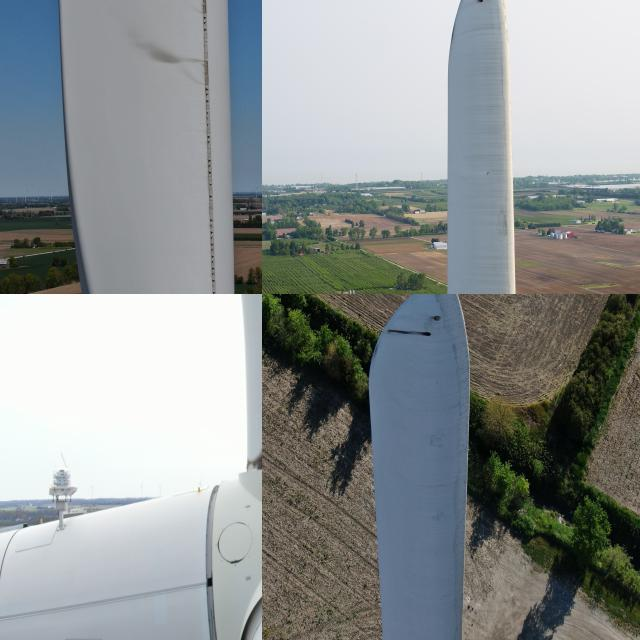damage: (382, 328, 432, 342), (250, 433, 261, 484), (200, 60, 212, 86), (199, 38, 211, 61), (207, 203, 218, 227), (199, 0, 210, 14), (199, 0, 208, 13), (475, 0, 486, 7)
